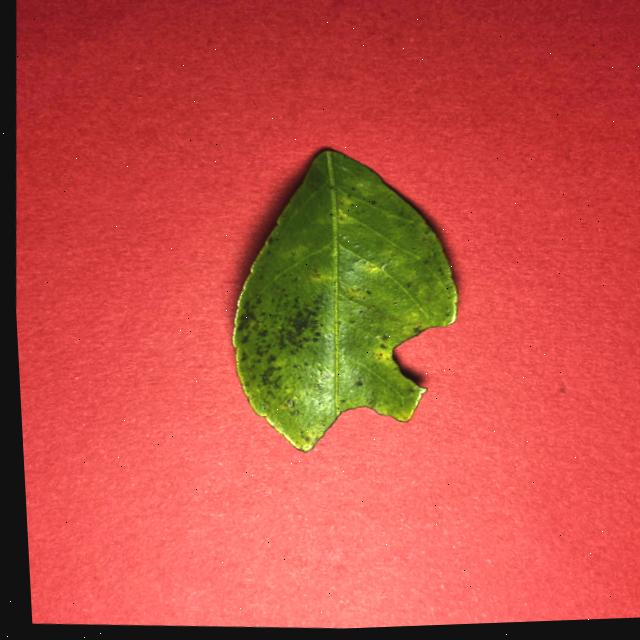sooty_mold: (234, 151, 458, 451)
